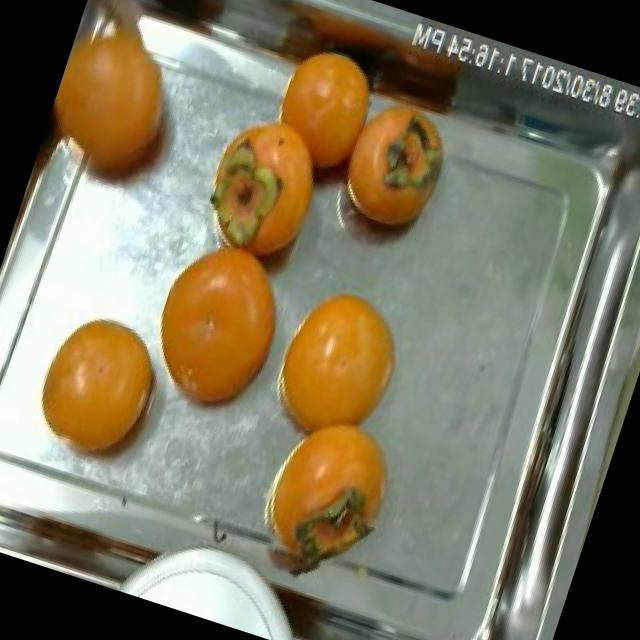Fruit: (118, 216, 310, 441), (230, 390, 422, 608), (11, 291, 190, 490), (252, 268, 425, 470), (178, 92, 336, 280), (316, 86, 467, 262), (254, 27, 396, 176), (64, 0, 183, 95)
